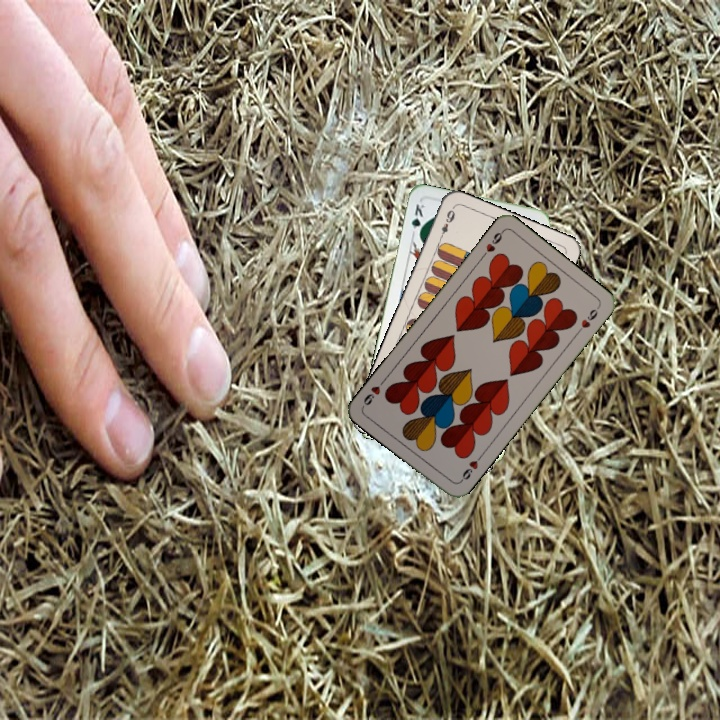E9: (435, 204, 458, 243)
GK: (407, 200, 428, 240)
H9: (455, 451, 485, 485), (477, 227, 506, 261)
